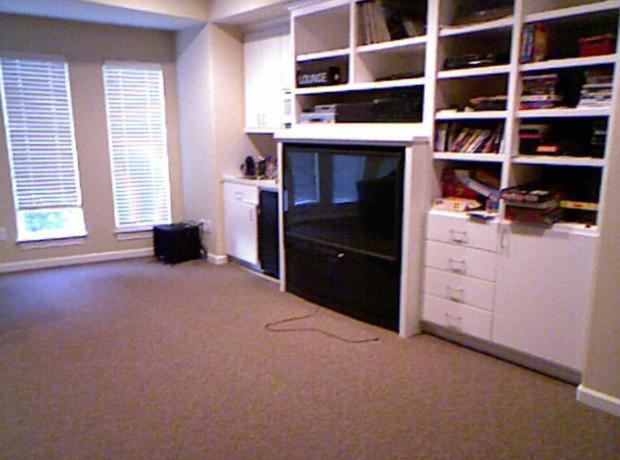Otro Obstaculo: (152, 216, 204, 266)
